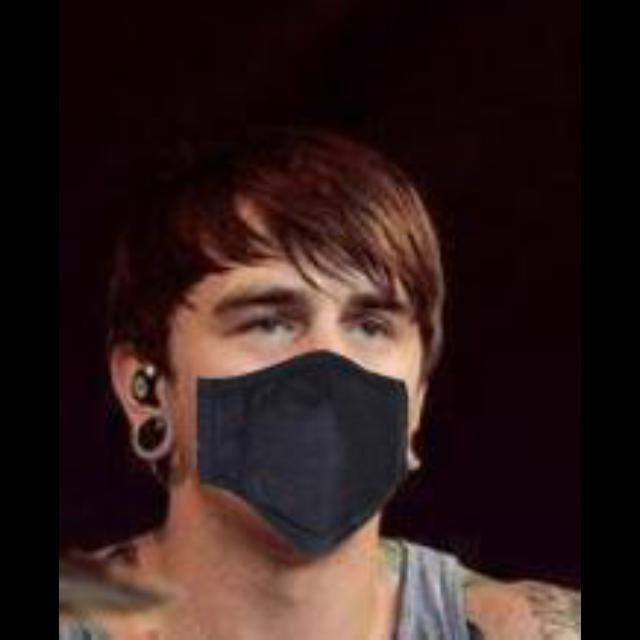suspicion: (93, 147, 457, 578)
